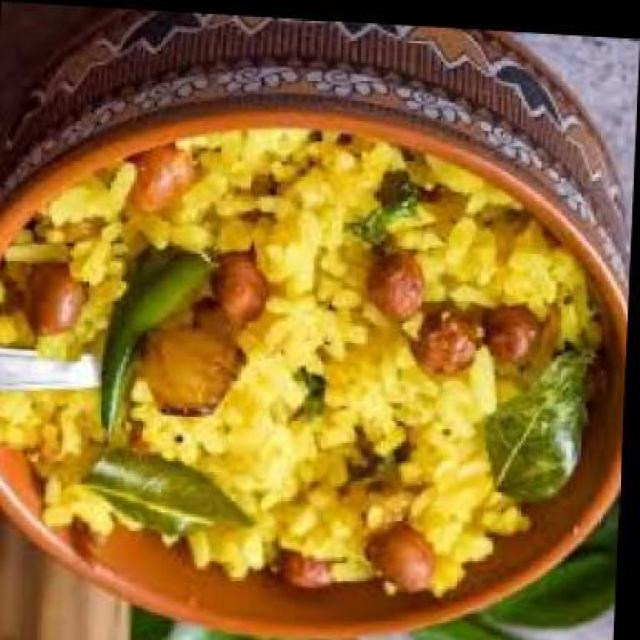poha: (0, 111, 611, 597)
